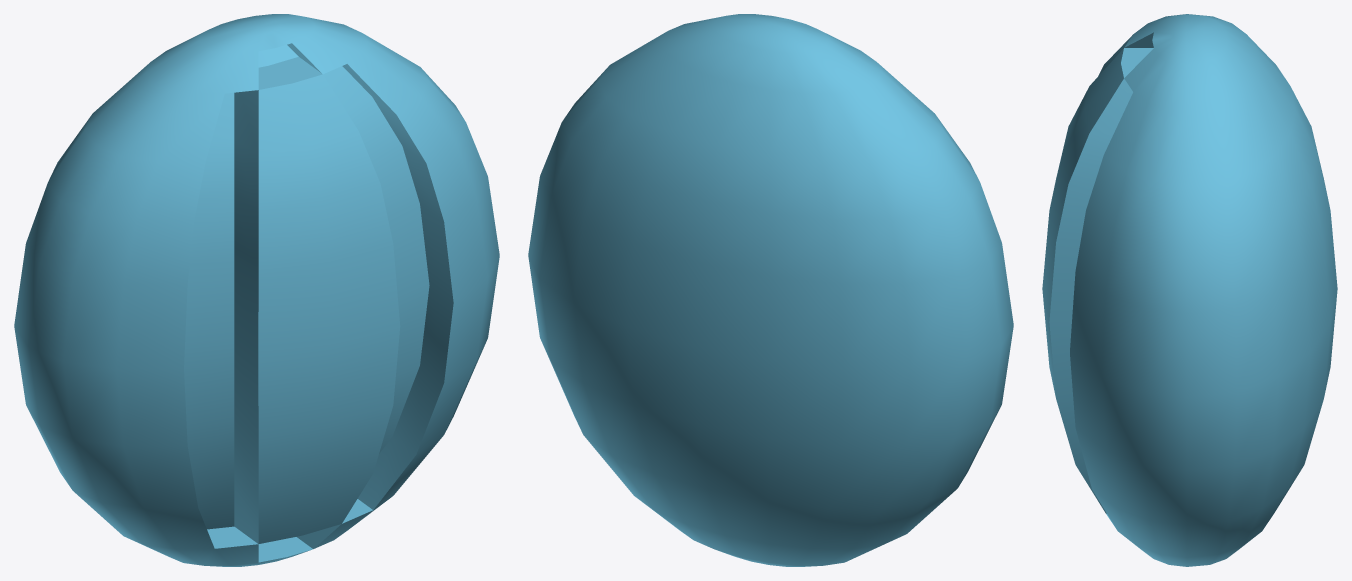
Rendered from Blue_stone.fbx.
The picture shows the model from 3 angles, left to right: view 1: azimuth 30°, elevation 25°; view 2: azimuth 150°, elevation 25°; view 3: azimuth 270°, elevation 25°; orthographic projection. The views are drawn at different scales.
Visible parts, largest first — view 1: polySurface32; view 2: polySurface32; view 3: polySurface32.
Part boxes in pixels (x1,y1,x2,y2): polySurface32: (14, 14, 499, 566); polySurface32: (528, 14, 1013, 566); polySurface32: (1042, 14, 1337, 566).
Size of the model in its own units: 0.8829 by 0.9736 by 0.5084.
